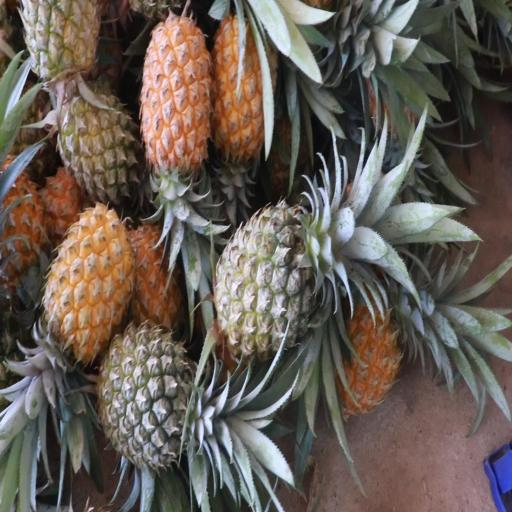Pineapple - v8 v1: (32, 205, 137, 391), (139, 4, 211, 217), (212, 10, 267, 172)
